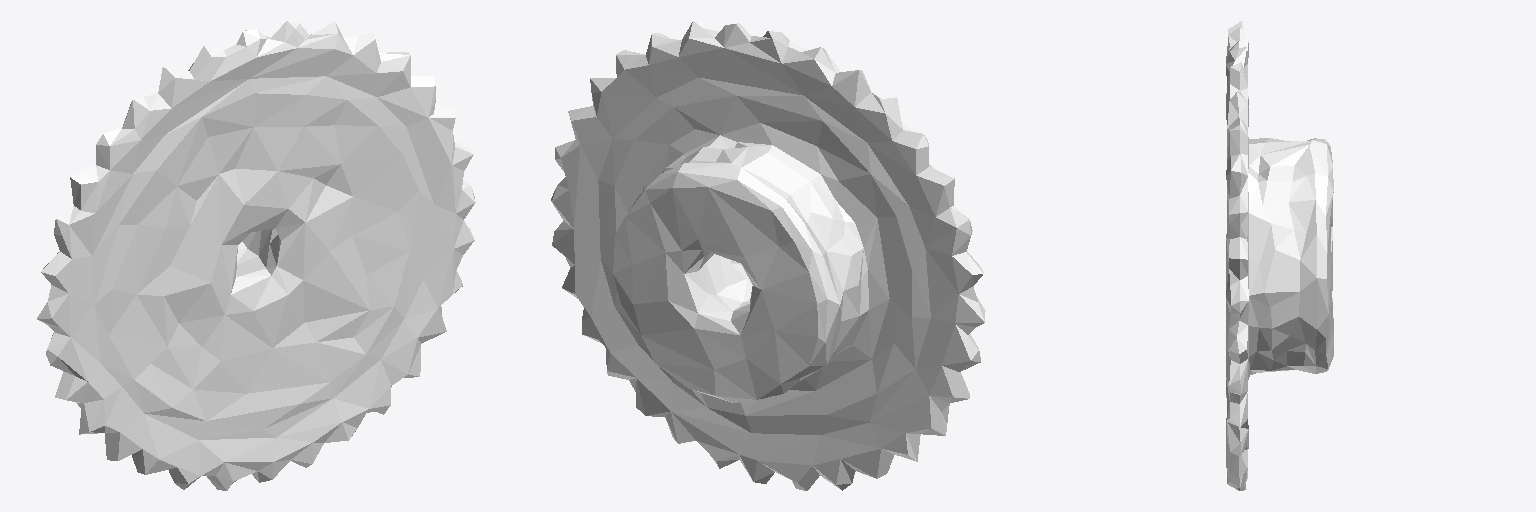
URDF robot description (atb2_chain-sprocket-large):
<?xml version="0.0" ?>
<robot name="atb2_chain-sprocket-large">
  <link name="baseLink">
    <contact>
      <friction_anchor/>
      <lateral_friction value="0.8"/>
      <spinning_friction value="0.001"/>
      <rolling_friction value="0.001"/>
      <contact_cfm value="0.0"/>
      <contact_erp value="0.2"/>
    </contact>
    <inertial>
       <origin rpy="0 0 0" xyz="0 0 0"/>
       <mass value="0.01"/>
       <inertia ixx="1e-3" ixy="0" ixz="0" iyy="1e-3" iyz="0" izz="1e-3"/>
    </inertial>
    <visual>
      <origin rpy="0 0 0" xyz="0 0 0"/>
      <geometry>
        <mesh filename="obj/fused_model.obj" scale="1 1 1"/>
      </geometry>
      <material name="white">
        <color rgba="1. 1. 1. 1."/>
      </material>
    </visual>
    <collision>
      <origin rpy="0 0 0" xyz="0 0 0"/>
      <geometry>
        <mesh filename="obj/fused_model.obj" scale="1 1 1"/>
      </geometry>
    </collision>
  </link>
</robot>

--- Facts derived from the render (not from the file) ---
3 views of the same robot in one strip: view 1: azimuth 30°, elevation 25°; view 2: azimuth 150°, elevation 25°; view 3: azimuth 270°, elevation 25° (orthographic).
Robot: atb2_chain-sprocket-large — 1 links, 0 joints (none); root link baseLink; default pose: all joints at 0.
Links seen in each view (by area): view 1: baseLink; view 2: baseLink; view 3: baseLink.
Boxes of the visible links, <box> form: baseLink: <box>37,21,475,490</box>; baseLink: <box>551,21,985,490</box>; baseLink: <box>1226,21,1333,490</box>.
Size in the robot's own frame: 0.0996 by 0.0231 by 0.0994 metres.
1 mesh visuals loaded from 1 distinct referenced files (1 OBJ).